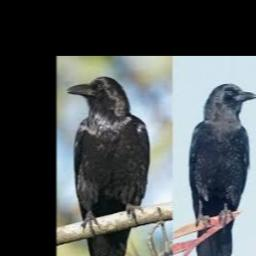Crow: (66, 76, 151, 256), (188, 82, 256, 256)
